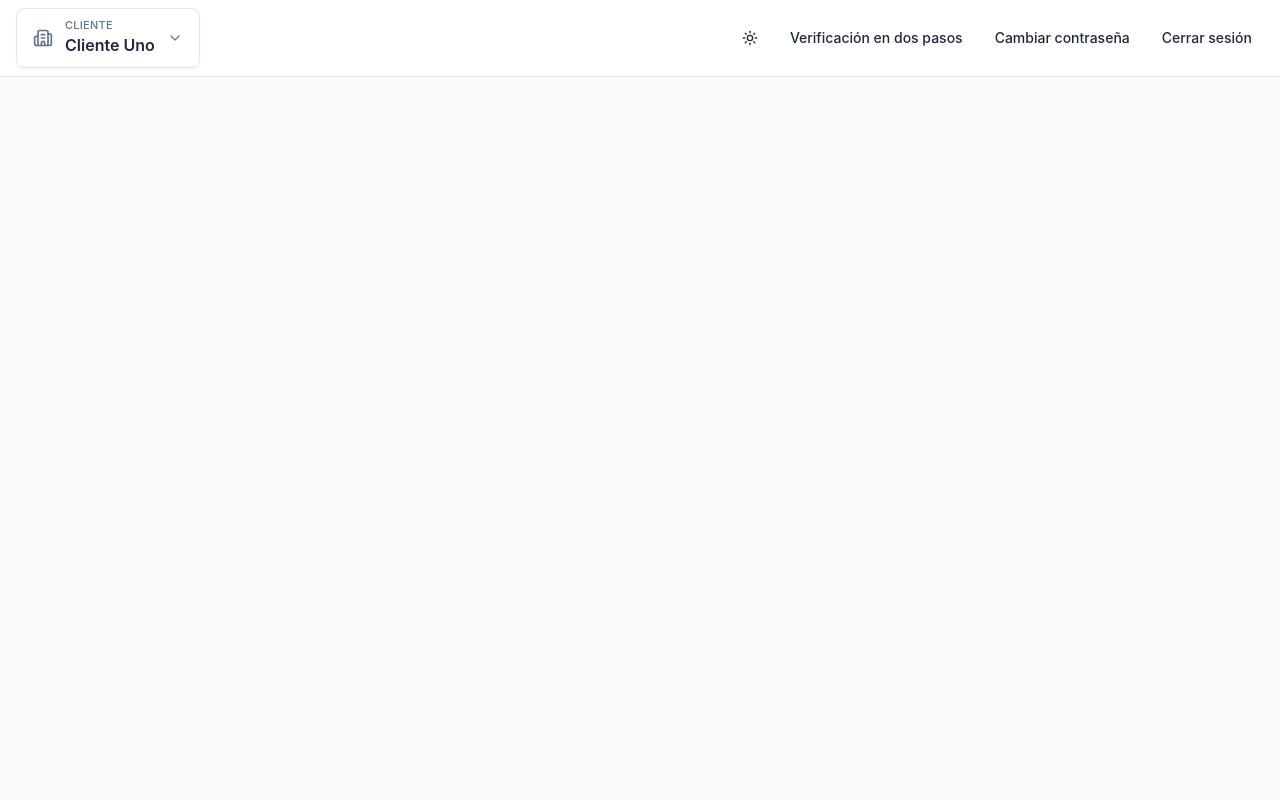
Test: DashboardHeader › muestra el botón 'Cambiar contraseña' y abre el diálogo al hacer clic
The image size is (1280, 800).
What coordinates should you click on to do the following:
click the button "Cambiar contraseña"
I would click on:
 (1062, 38)
Its box is [983, 20, 1142, 56].
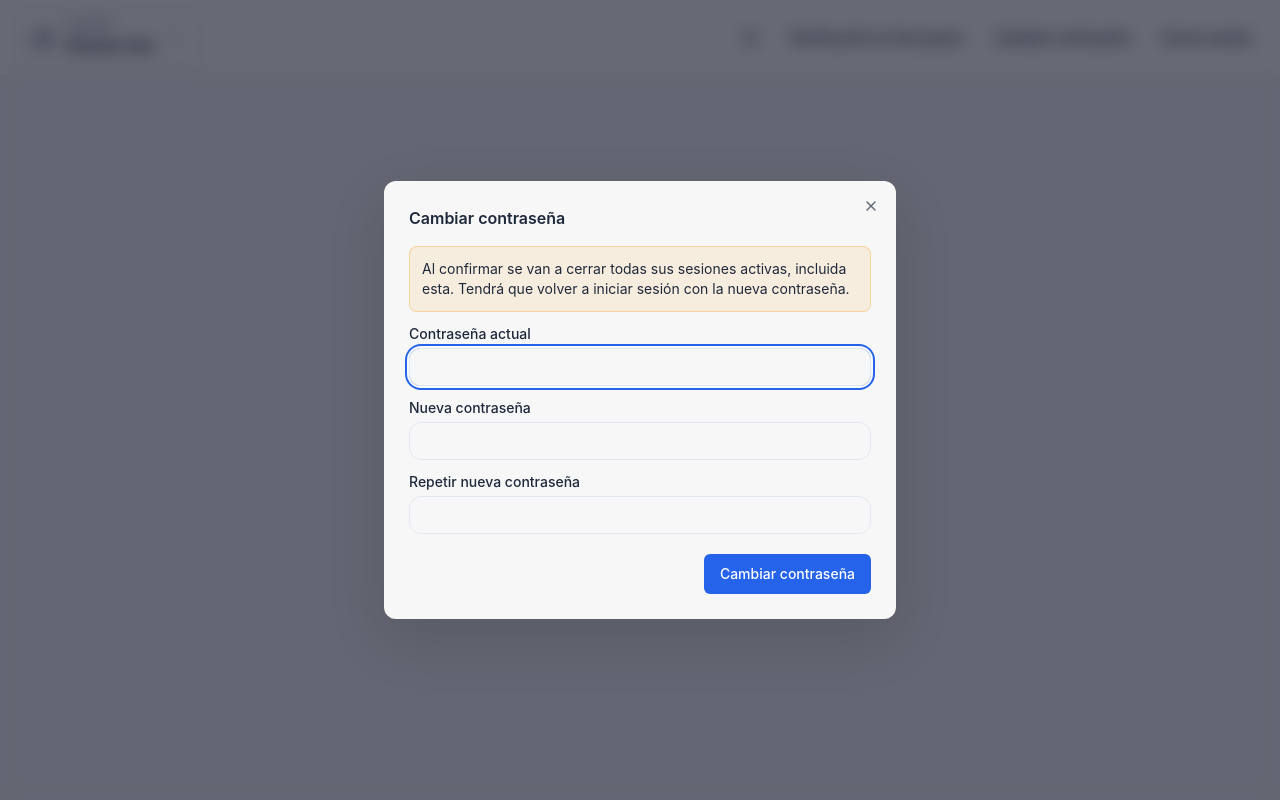
Expected: the dialog "Cambiar contraseña" is shown, [384, 181, 896, 619]
